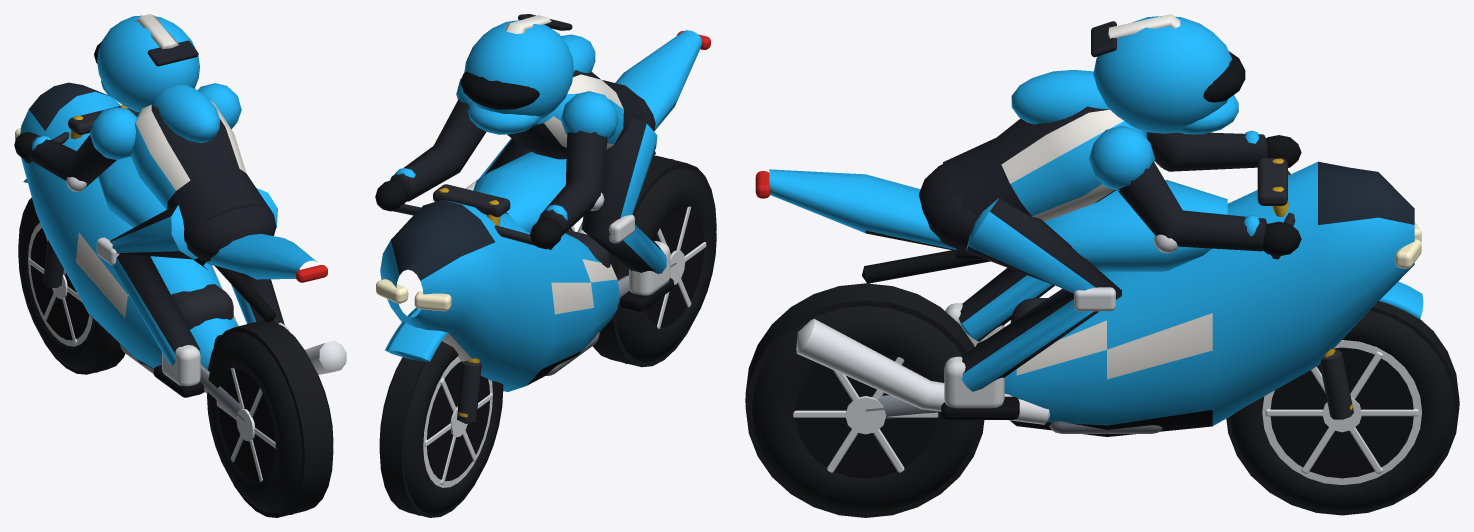
The model's file is sportbike.glb.
3 views of the same model, side by side, from view 1: azimuth 30°, elevation 25°; view 2: azimuth 150°, elevation 25°; view 3: azimuth 270°, elevation 25° (orthographic). The views are drawn at different scales.
Parts seen in each view (by area): view 1: Rider, Body, Wheel.R, Wheel.F; view 2: Body, Rider, Wheel.F, Wheel.R; view 3: Body, Rider, Wheel.R, Wheel.F.
Boxes of the visible parts, box(x1,y1,x2,y2) form: Rider: box(14, 14, 289, 397); Body: box(15, 82, 346, 421); Wheel.R: box(207, 320, 333, 517); Wheel.F: box(18, 197, 125, 374); Body: box(376, 30, 710, 423); Rider: box(375, 14, 673, 311); Wheel.F: box(379, 341, 503, 517); Wheel.R: box(592, 155, 716, 367); Body: box(755, 158, 1423, 436); Rider: box(919, 14, 1301, 419); Wheel.R: box(745, 283, 984, 517); Wheel.F: box(1226, 301, 1459, 515).
Size of the model in its own units: 0.796 by 1.81 by 2.37.
